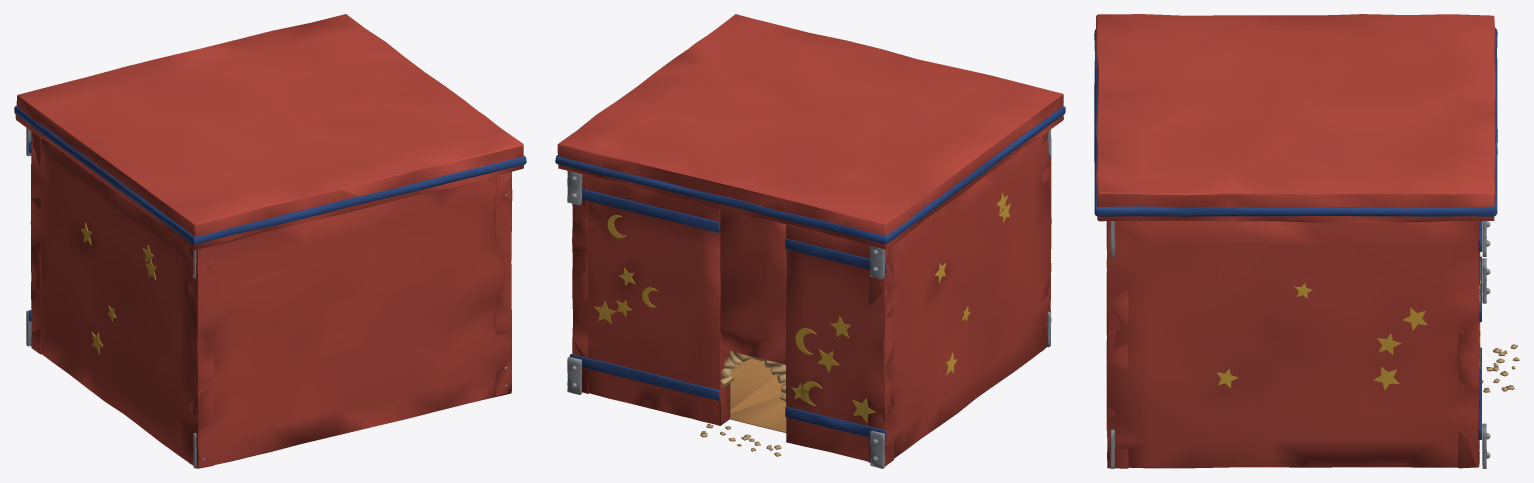
Rendered from den_toybox_lod1.glb.
The picture shows the model from 3 angles, left to right: view 1: azimuth 30°, elevation 25°; view 2: azimuth 150°, elevation 25°; view 3: azimuth 270°, elevation 25°; orthographic projection. The views are drawn at different scales.
Visible parts, largest first — view 1: den_toybox.001; view 2: den_toybox.001; view 3: den_toybox.001.
Part boxes in pixels (x1=…): den_toybox.001: x1=14, y1=14, x2=526, y2=468; den_toybox.001: x1=555, y1=14, x2=1065, y2=468; den_toybox.001: x1=1094, y1=14, x2=1519, y2=468.
Size of the model in its own units: 40.46 by 29.39 by 40.03.
